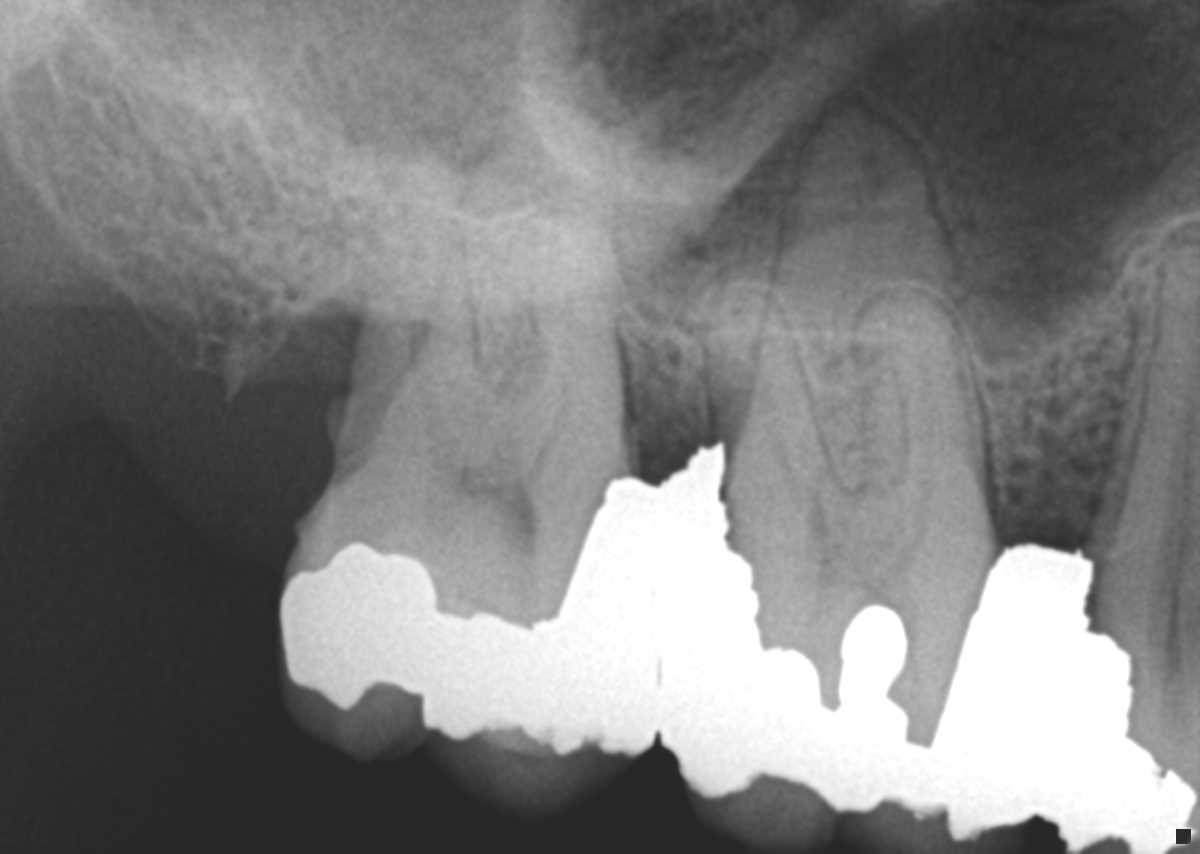Distal Canal: (766, 391, 818, 519), (404, 328, 455, 441)
Distal Root: (334, 128, 493, 475), (700, 276, 842, 531)
Main Root: (1088, 231, 1200, 578)
Mesial Root: (843, 287, 990, 503), (493, 209, 625, 442)
Palatal Root: (723, 113, 983, 508)
